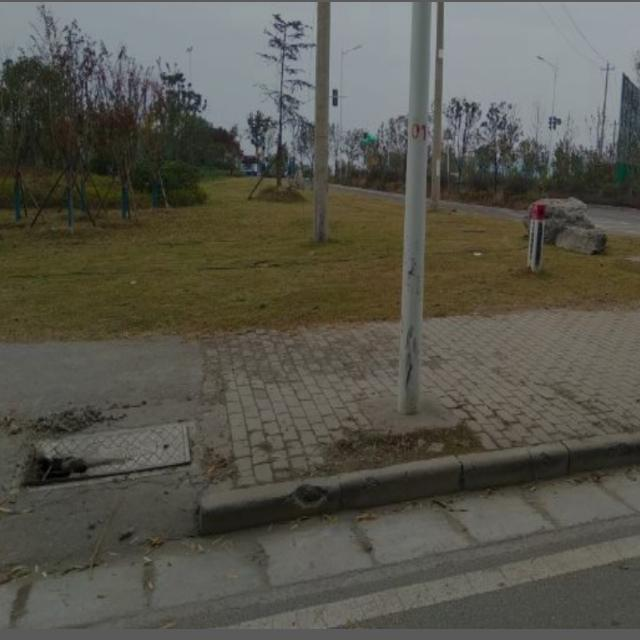broke: (12, 428, 194, 476)
